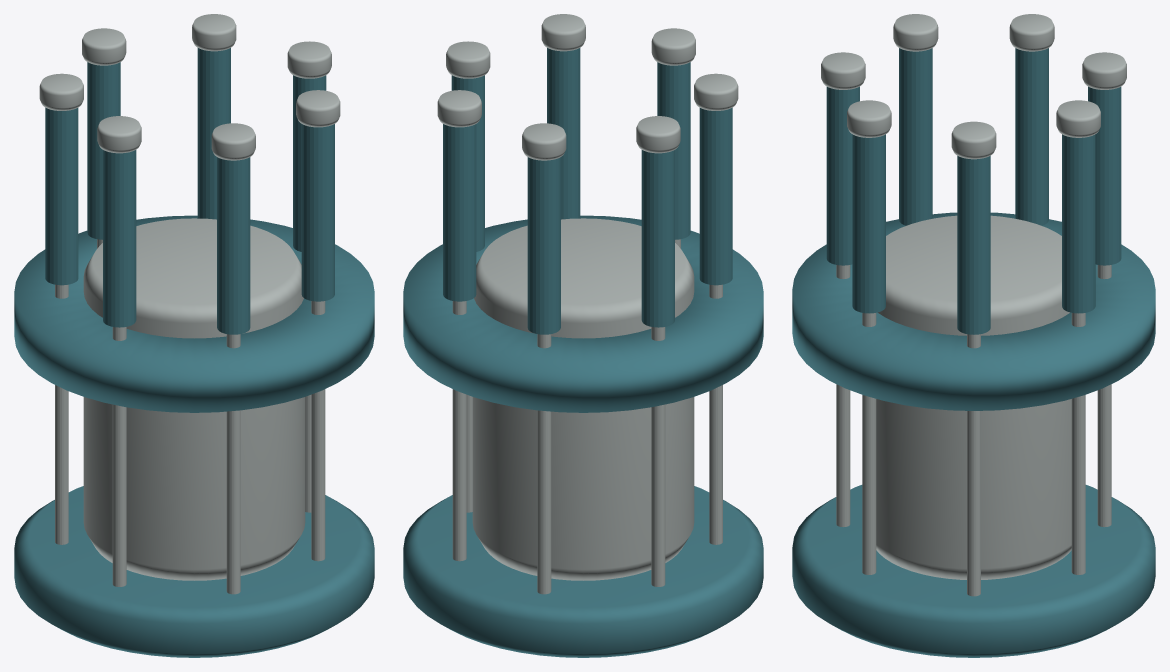
The model's file is optician-and-optical-lens-workshop-optician-and-optica-21305c42__31705.glb.
3 renders of one model, left to right at view 1: azimuth 30°, elevation 25°; view 2: azimuth 150°, elevation 25°; view 3: azimuth 270°, elevation 25°, orthographic.
Visible parts, largest first — view 1: optician-and-optical-lens-workshop-precision-screwdriver-car (×2); view 2: optician-and-optical-lens-workshop-precision-screwdriver-car (×2); view 3: optician-and-optical-lens-workshop-precision-screwdriver-car (×2).
Boxes of the visible parts, box(x1,y1,x2,y2) form: optician-and-optical-lens-workshop-precision-screwdriver-car (×2): box(14, 14, 374, 657); optician-and-optical-lens-workshop-precision-screwdriver-car (×2): box(403, 14, 763, 657); optician-and-optical-lens-workshop-precision-screwdriver-car (×2): box(792, 14, 1155, 657).
Bounding box in the file's own units: 0.13 × 0.203 × 0.13.
